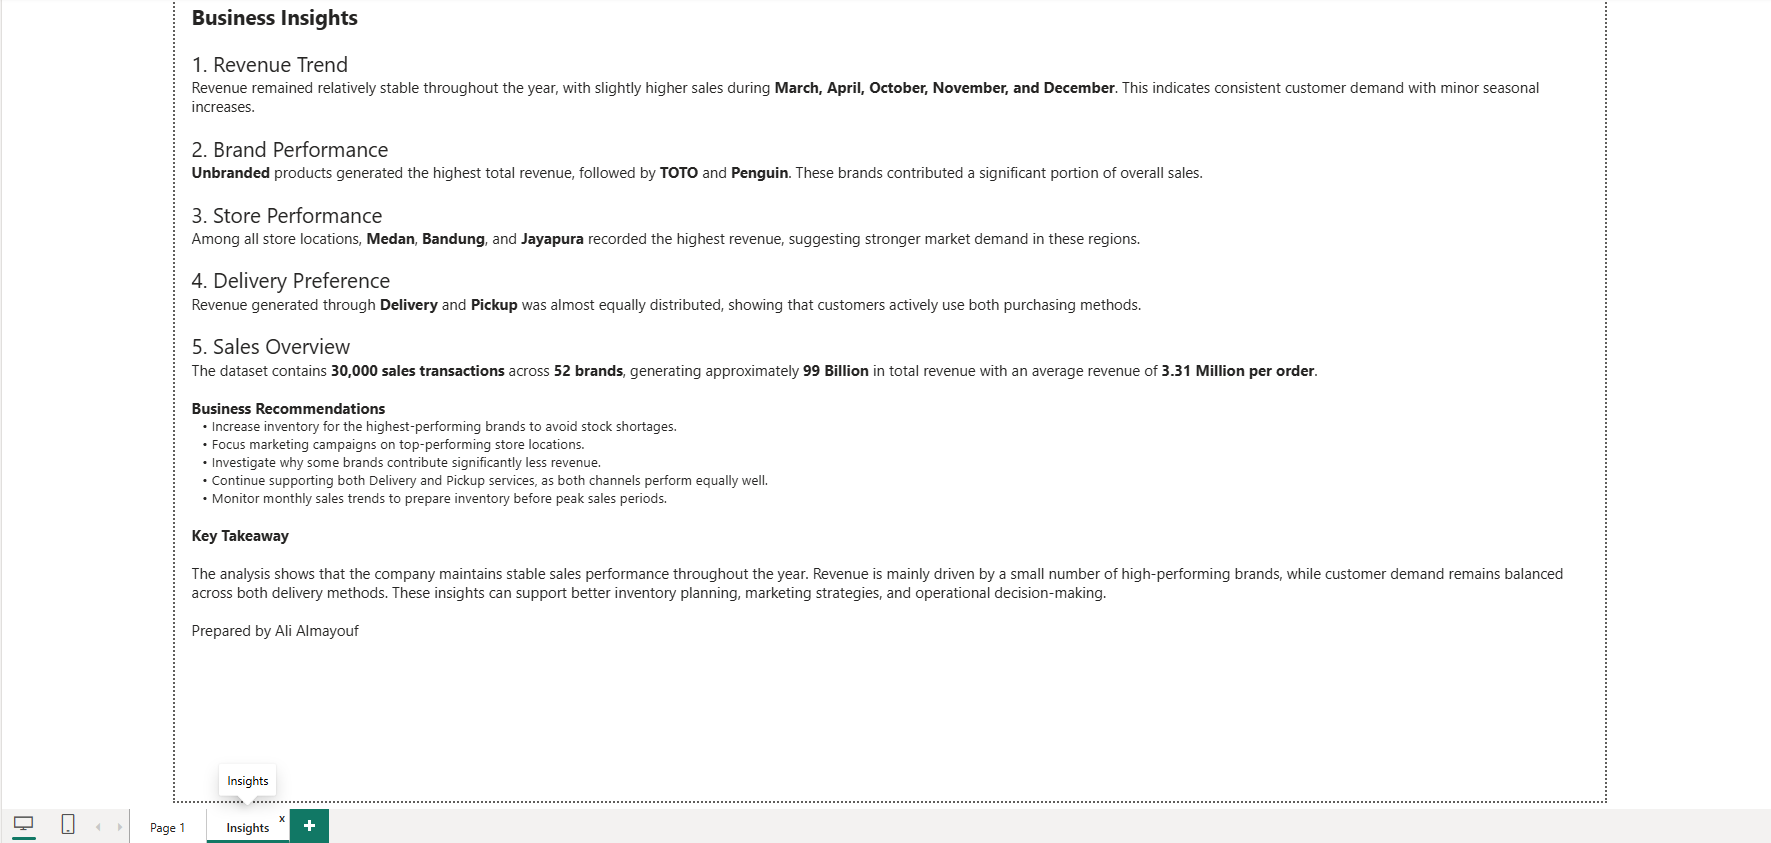

What the dashboard file says about the page in this screenshot:
{"tool":"powerbi","page":{"name":"Insights","canvas":[1280,720],"ordinal":1},"visuals":[{"type":"textbox","box":[9.8,0,1270.2,719.8],"z":0}]}

Visuals, with their boxes on the page's 1280x720 design canvas (x1, y1, x2, y2). These are canvas units, not pixel positions in the 1771x843 screenshot, which may show the page scaled, cropped or inside an application window:
textbox: (10,0,1280,720)
